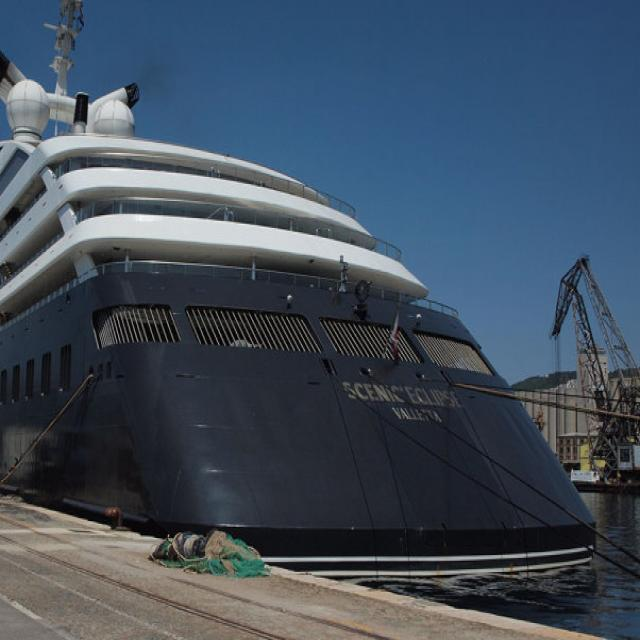cruises: (1, 1, 605, 586)
